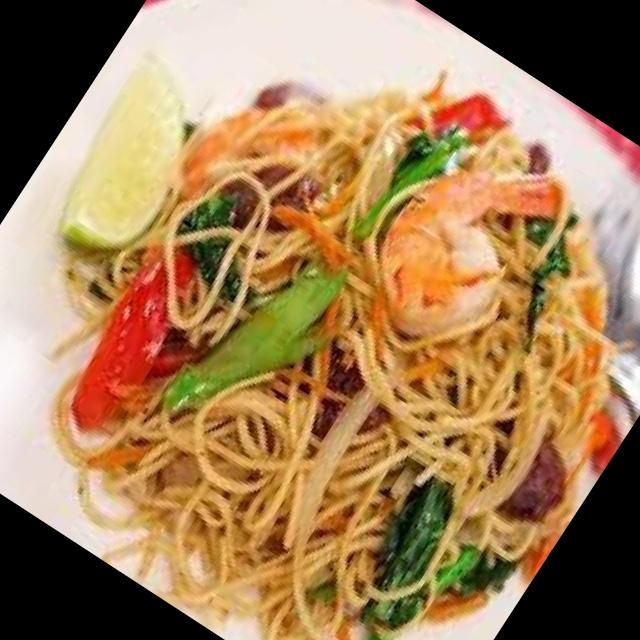pancit bihon: (66, 88, 613, 629)
